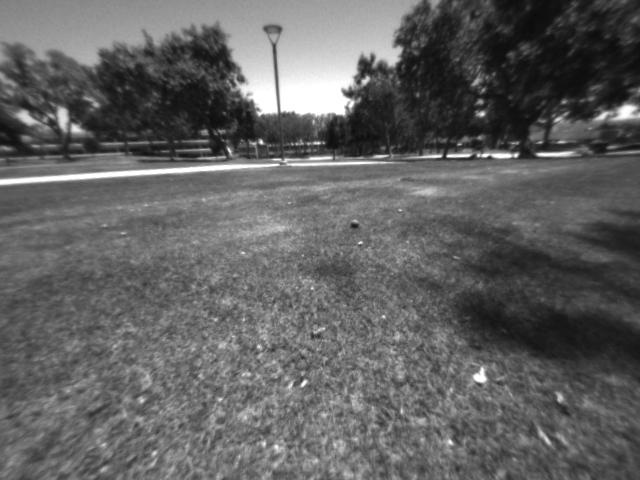dogtoy: (342, 213, 370, 233)
